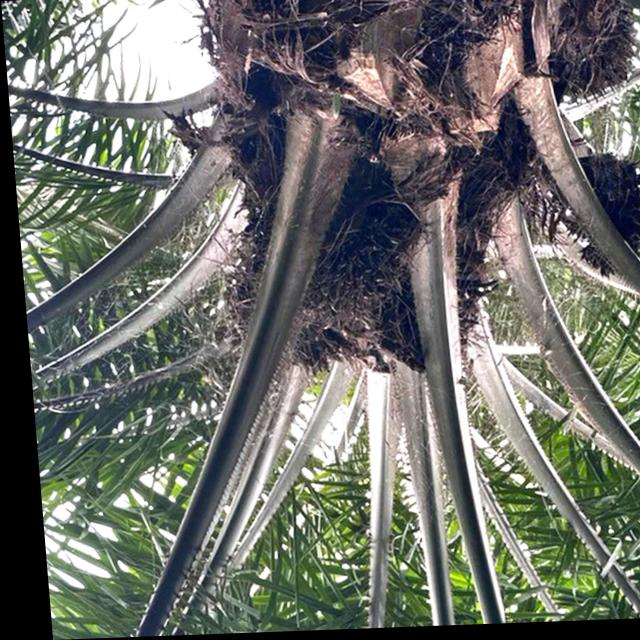unripe: (221, 165, 431, 335)
